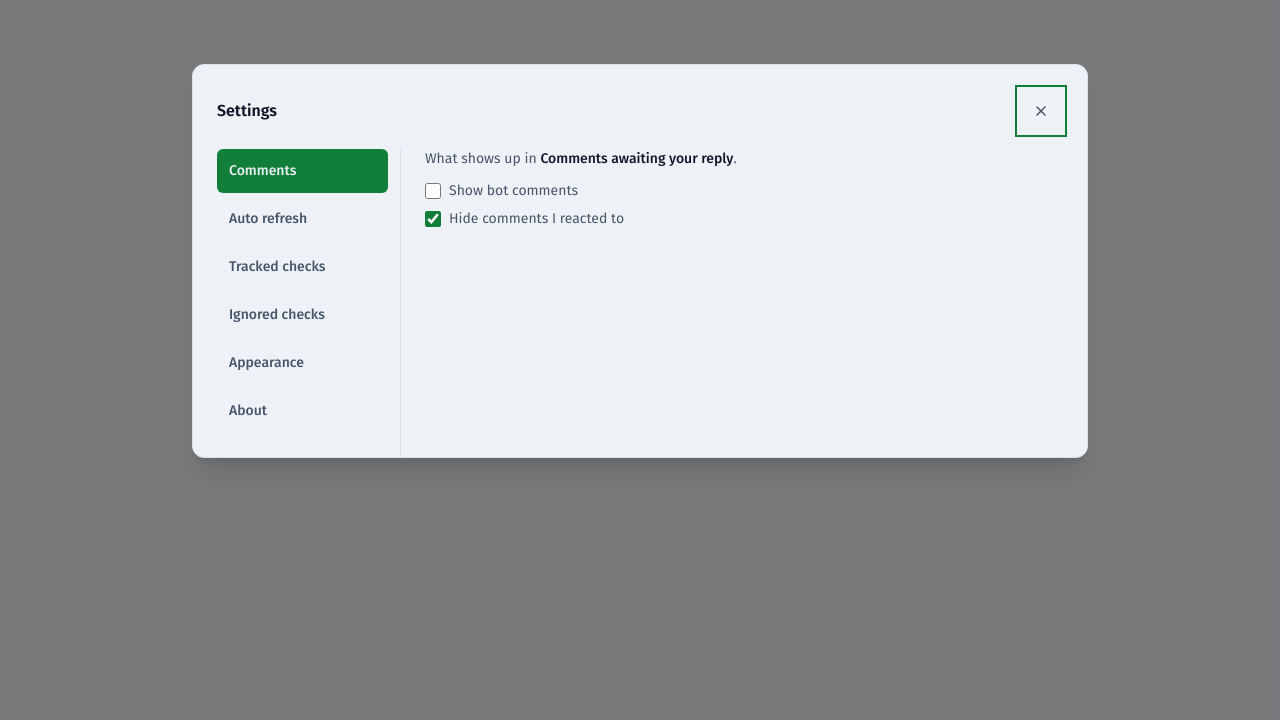
Test: SettingsModal › clears the add field and returns to Required after adding
The width and height of the screenshot is (1280, 720).
Click the tab "Tracked checks" at (302, 267), box [217,245,388,289]
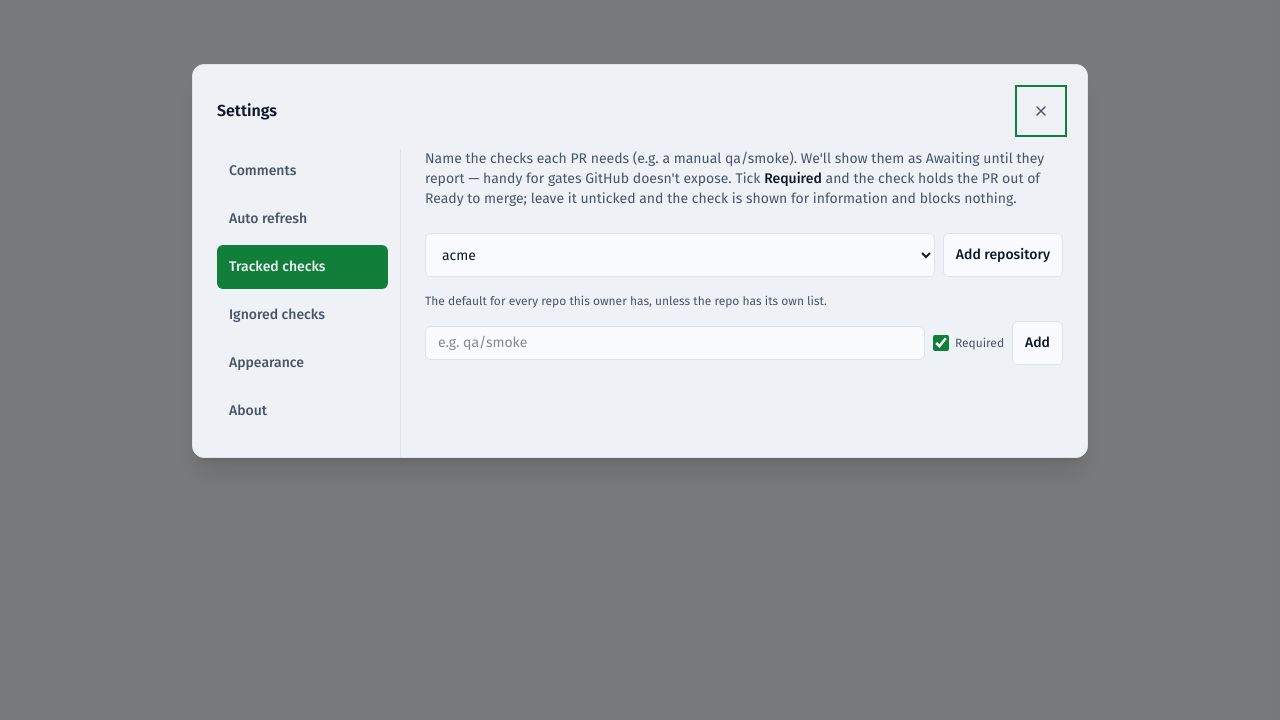
Type "lint" into the field named "New check for acme" at (675, 343), box [425,326,925,360]
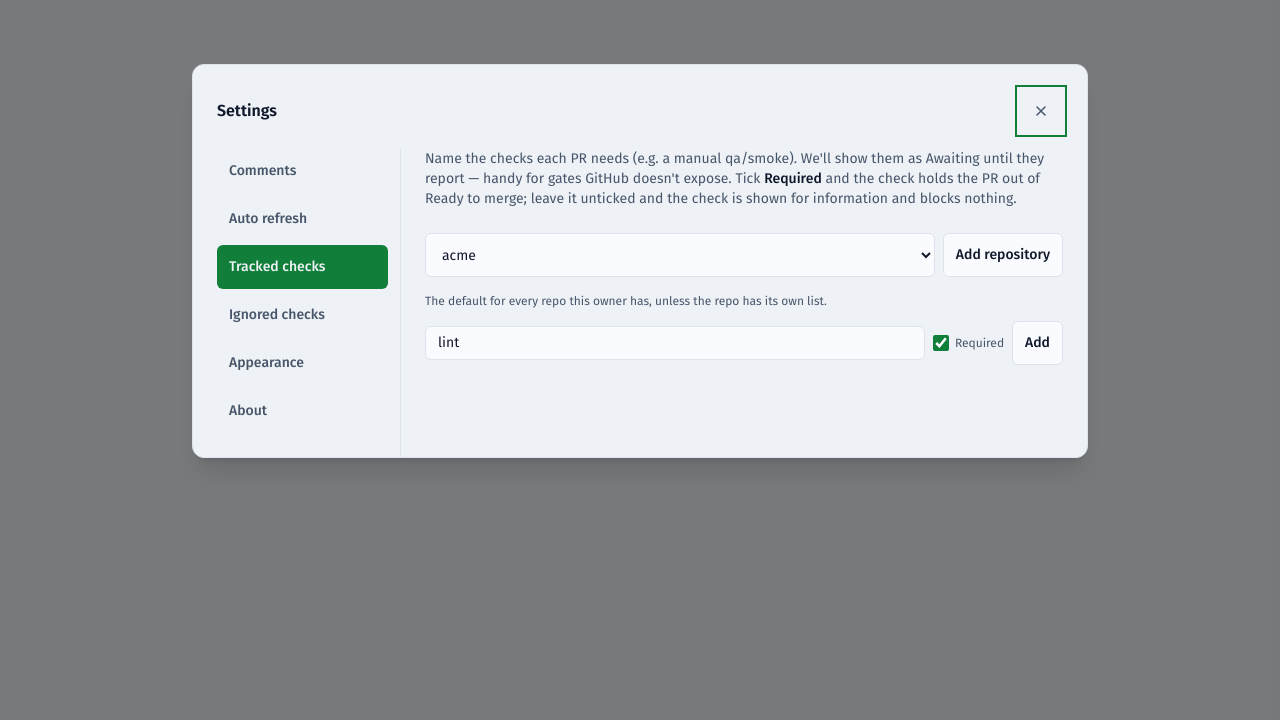
Click the checkbox named "New check is required for acme" at (941, 343), box [933,335,949,351]
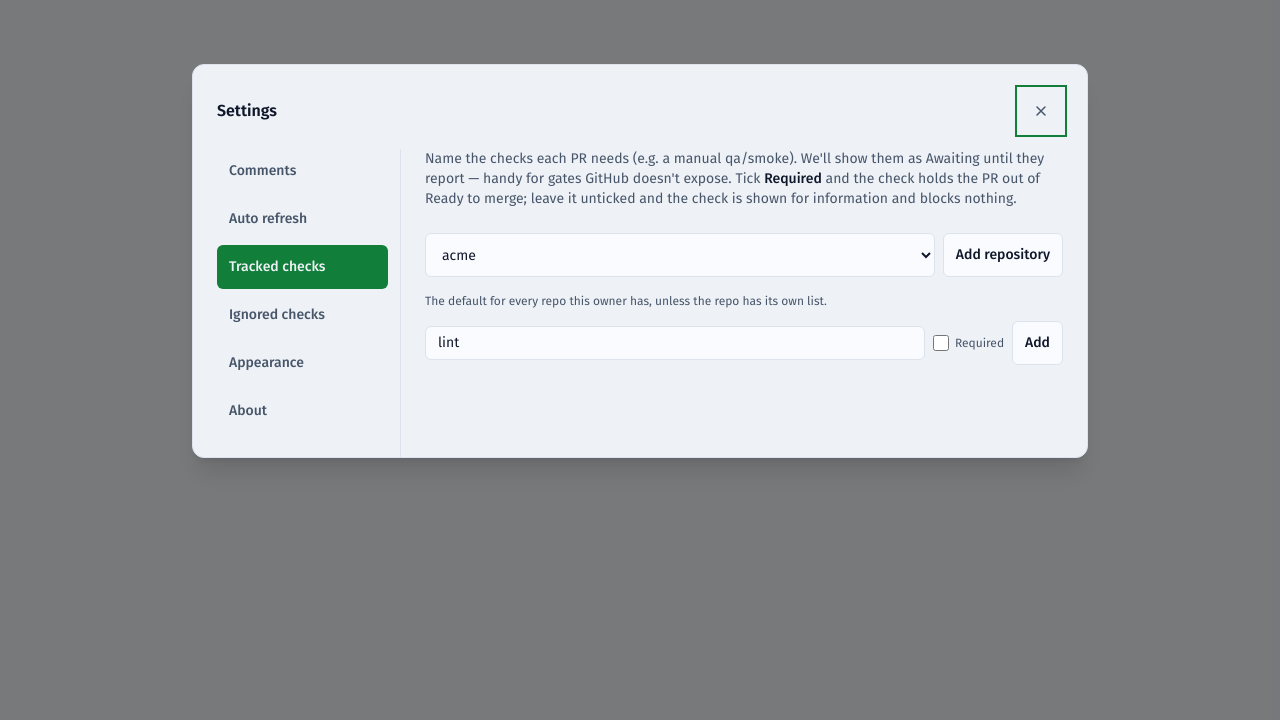
Click the button with aria-label "Add check to acme" at (1038, 343), box [1012,321,1063,365]
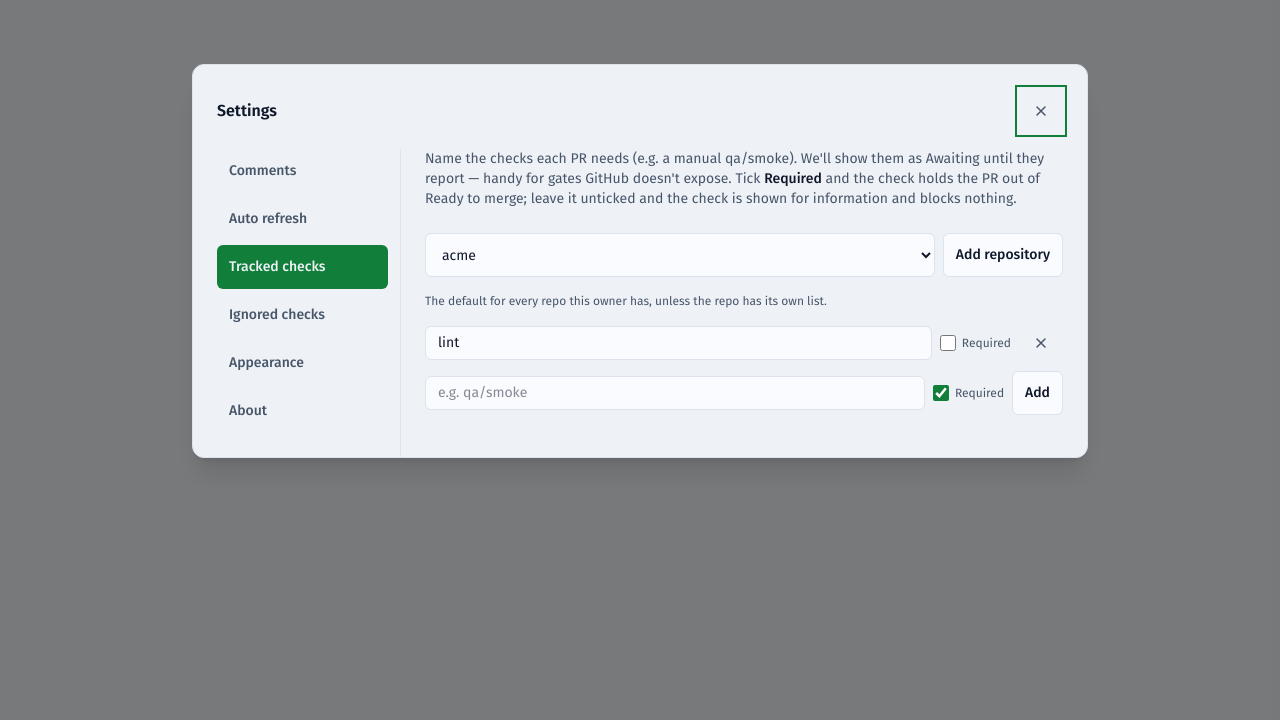
Expected: the checkbox named "New check is required for acme" is checked, [933,385,949,401]
Expected: the field named "New check for acme" is empty, [425,376,925,410]
